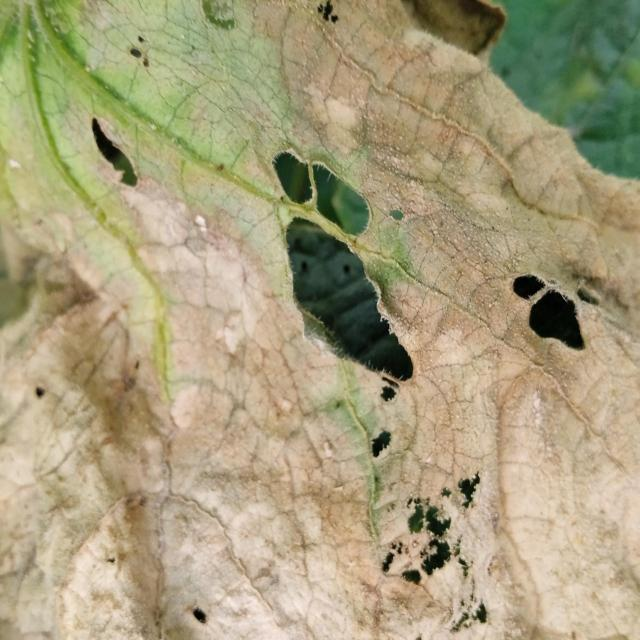cucumber_anthracnose: (34, 36, 623, 627)
